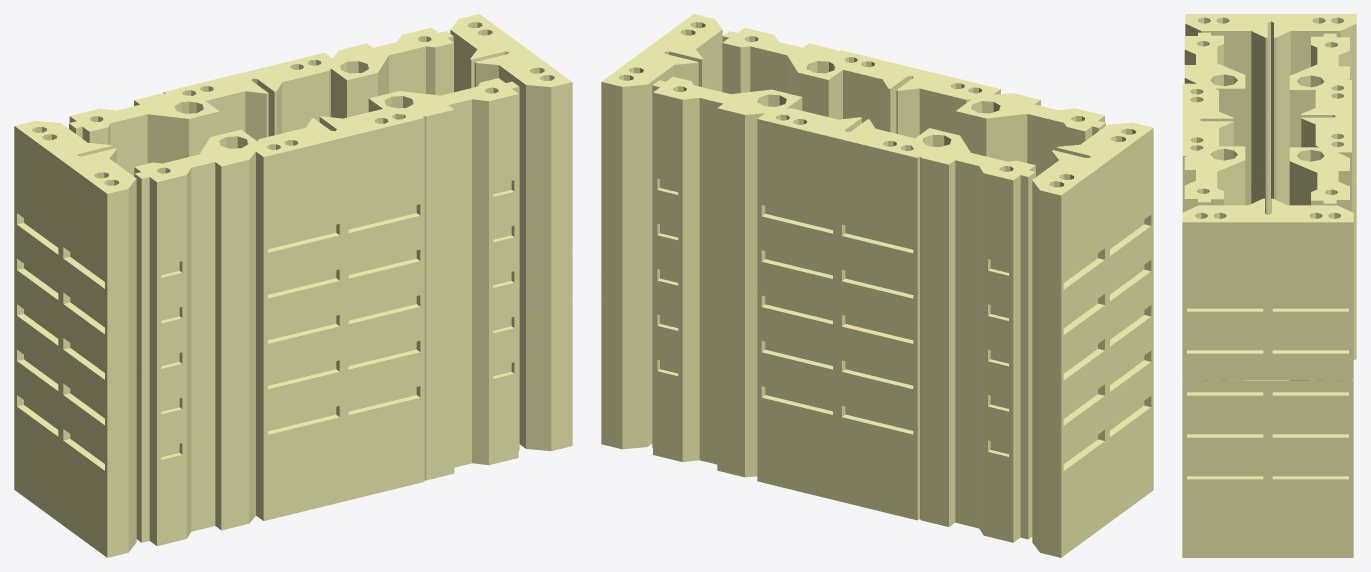
The model's file is MangaKa Props - F_S_ScifiBuilding_58.glb.
The picture shows the model from 3 angles, left to right: view 1: azimuth 30°, elevation 25°; view 2: azimuth 150°, elevation 25°; view 3: azimuth 270°, elevation 25°; orthographic projection. The views are drawn at different scales.
Parts seen in each view (by area): view 1: F_S_ScifiBuilding_58_blueScreen, F_S_ScifiBuilding_58001_blueScreen, F_S_ScifiBuilding_58002_blueScreen, F_S_ScifiBuilding_58003_blueScreen; view 2: F_S_ScifiBuilding_58_blueScreen, F_S_ScifiBuilding_58001_blueScreen, F_S_ScifiBuilding_58002_blueScreen, F_S_ScifiBuilding_58003_blueScreen; view 3: F_S_ScifiBuilding_58_blueScreen, F_S_ScifiBuilding_58001_blueScreen, F_S_ScifiBuilding_58002_blueScreen, F_S_ScifiBuilding_58003_blueScreen.
Boxes of the visible parts, bbox=[...] form: F_S_ScifiBuilding_58_blueScreen: bbox=[14, 14, 572, 557]; F_S_ScifiBuilding_58001_blueScreen: bbox=[14, 182, 572, 456]; F_S_ScifiBuilding_58002_blueScreen: bbox=[24, 181, 511, 463]; F_S_ScifiBuilding_58003_blueScreen: bbox=[32, 22, 554, 185]; F_S_ScifiBuilding_58_blueScreen: bbox=[601, 14, 1153, 557]; F_S_ScifiBuilding_58001_blueScreen: bbox=[601, 182, 1153, 456]; F_S_ScifiBuilding_58002_blueScreen: bbox=[660, 179, 1144, 463]; F_S_ScifiBuilding_58003_blueScreen: bbox=[619, 22, 1135, 187]; F_S_ScifiBuilding_58_blueScreen: bbox=[1182, 14, 1356, 557]; F_S_ScifiBuilding_58001_blueScreen: bbox=[1182, 115, 1356, 464]; F_S_ScifiBuilding_58002_blueScreen: bbox=[1187, 301, 1348, 476]; F_S_ScifiBuilding_58003_blueScreen: bbox=[1190, 17, 1344, 218].
Size of the model in its own units: 12.19 by 9.15 by 4.31.
